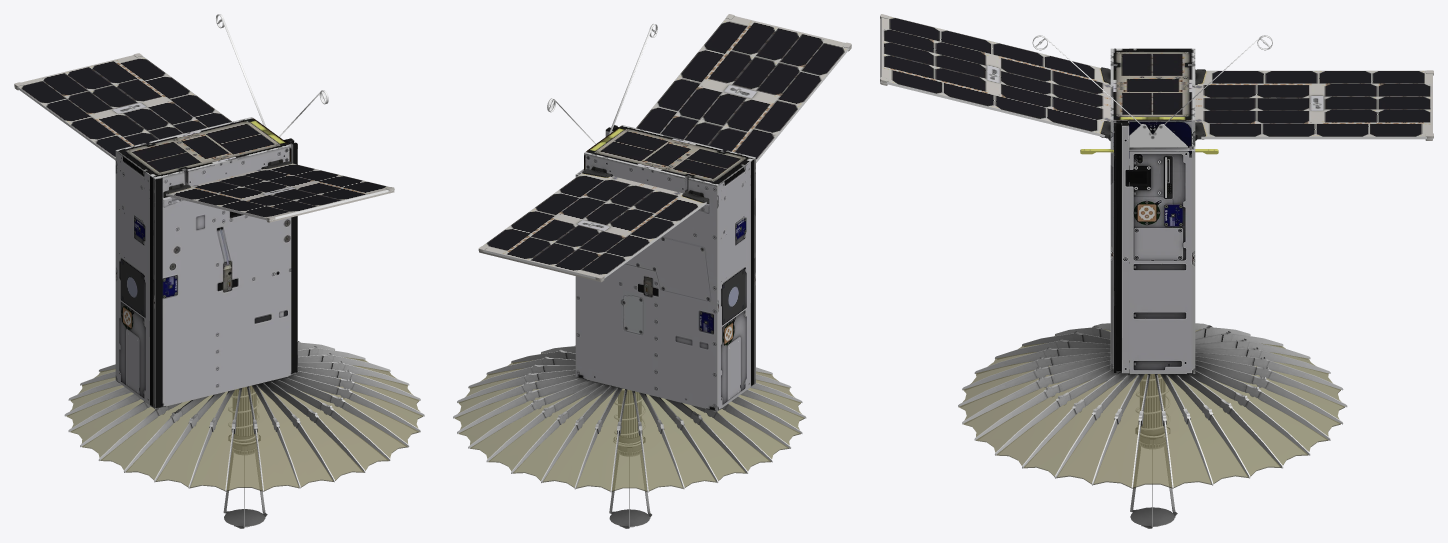
File: Raincube.gltf
3 renders of one model, left to right at view 1: azimuth 30°, elevation 25°; view 2: azimuth 150°, elevation 25°; view 3: azimuth 270°, elevation 25°, orthographic. The views are drawn at different scales.
Visible parts, largest first — view 1: BUS, HGA_mesh, HGA ribs, Array_Left, Array_Right, HGA; view 2: BUS, HGA_mesh, Array_Right, Array_Left, HGA ribs, HGA; view 3: BUS, HGA_mesh, HGA ribs, Array_Left, Array_Right, HGA.
Part boxes in pixels (x1=…): BUS: x1=115, y1=14, x2=328, y2=408; HGA_mesh: x1=66, y1=350, x2=423, y2=491; HGA ribs: x1=64, y1=341, x2=424, y2=491; Array_Left: x1=14, y1=53, x2=231, y2=160; Array_Right: x1=163, y1=159, x2=394, y2=222; HGA: x1=223, y1=386, x2=267, y2=528; BUS: x1=547, y1=24, x2=755, y2=411; HGA_mesh: x1=454, y1=353, x2=804, y2=491; Array_Right: x1=636, y1=14, x2=851, y2=162; Array_Left: x1=478, y1=166, x2=709, y2=282; HGA ribs: x1=453, y1=345, x2=806, y2=492; HGA: x1=609, y1=390, x2=651, y2=528; BUS: x1=1032, y1=35, x2=1272, y2=373; HGA_mesh: x1=959, y1=329, x2=1344, y2=488; HGA ribs: x1=958, y1=323, x2=1347, y2=488; Array_Left: x1=1195, y1=69, x2=1433, y2=140; Array_Right: x1=880, y1=14, x2=1110, y2=140; HGA: x1=1130, y1=374, x2=1177, y2=528.
Size of the model in its own units: 0.5149 by 0.7283 by 0.7358.
Materials: 9 (5 with a texture image).
